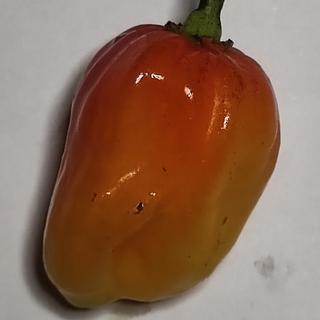Fly-bites: (128, 196, 151, 221), (155, 160, 177, 181), (86, 186, 104, 206), (221, 213, 232, 227)
